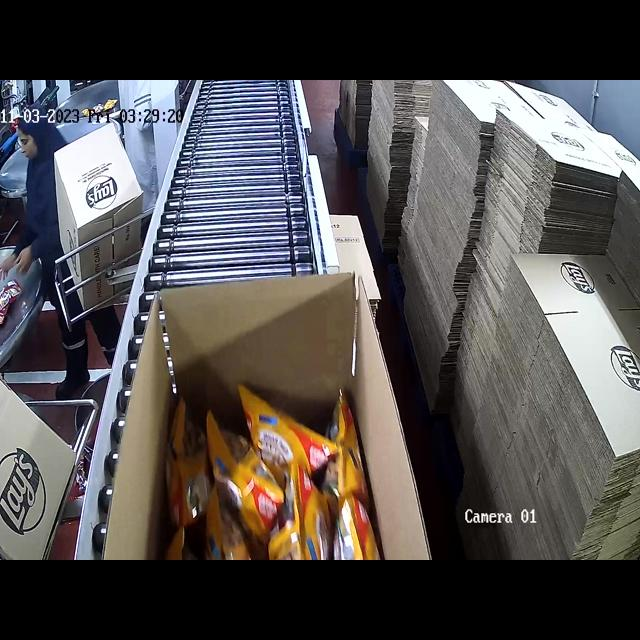cheese: (167, 402, 378, 560)
